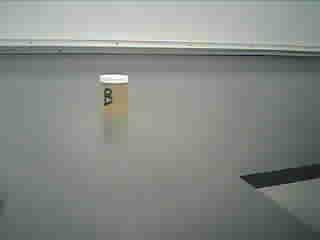Bottle B: (87, 68, 139, 134)
